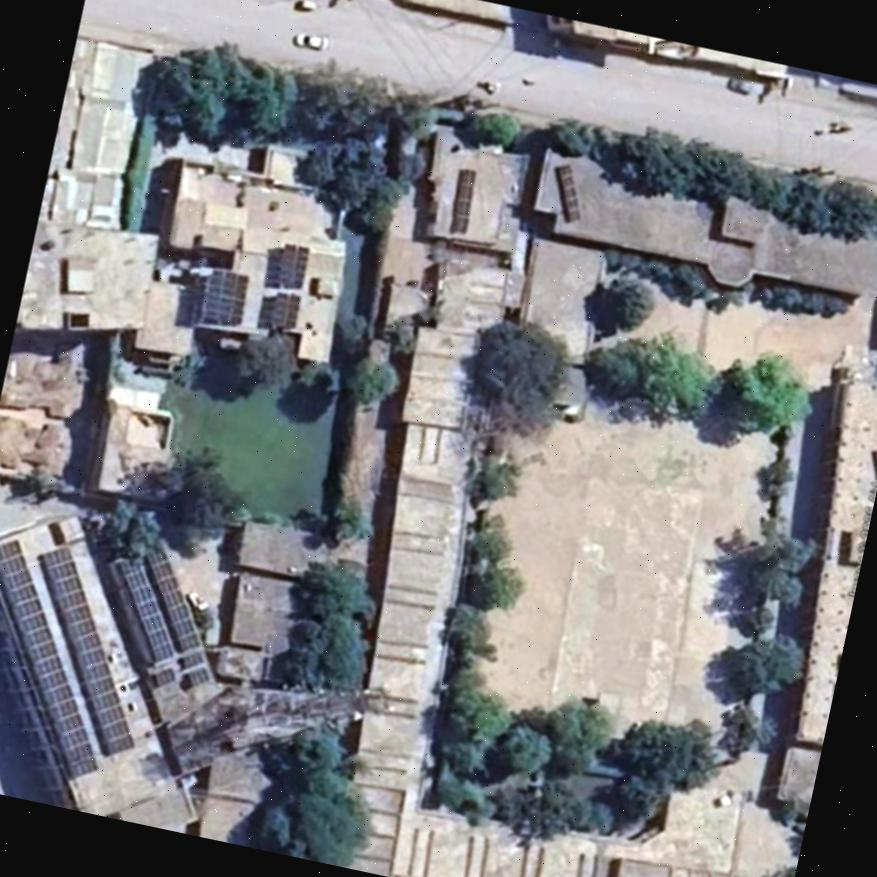Solarpanel: (0, 536, 95, 775), (43, 549, 131, 751), (119, 557, 174, 663), (146, 546, 196, 648), (200, 268, 250, 322), (555, 163, 583, 221), (451, 168, 474, 231), (279, 240, 309, 288), (271, 292, 300, 327), (185, 670, 206, 689), (179, 651, 201, 668), (153, 668, 171, 688)
